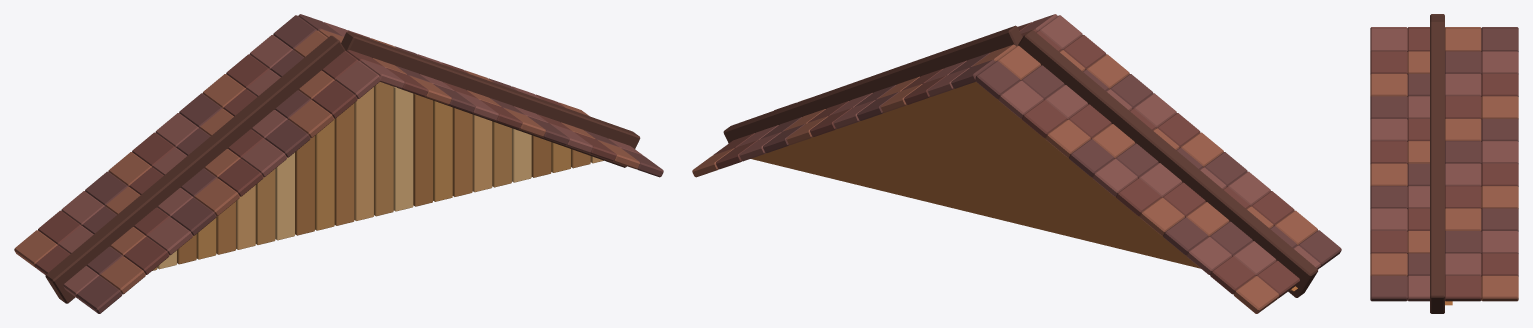
Rendered from gable.glb.
3 renders of one model, left to right at view 1: azimuth 30°, elevation 25°; view 2: azimuth 150°, elevation 25°; view 3: azimuth 270°, elevation 25°, orthographic. The views are drawn at different scales.
Visible parts, largest first — view 1: Testeira, Telha.003, Telha.002, Telha, Telha.001, Ripa do oitão.001, Ripa do oitão.004, Ripa do oitão.003, Ripa do oitão.002, Ripa do oitão.005, Ripa do oitão; view 2: Fechamento do oitão, Testeira, Telha, Telha.003, Telha.002, Telha.001; view 3: Telha.002, Telha.003, Telha.001, Telha, Testeira.
Part boxes in pixels (<box>): Testeira: <box>45,31,640,303</box>; Telha.003: <box>76,14,663,313</box>; Telha.002: <box>14,29,639,294</box>; Telha: <box>58,22,642,298</box>; Telha.001: <box>35,30,616,275</box>; Ripa do oitão.001: <box>216,103,590,254</box>; Ripa do oitão.004: <box>157,87,531,269</box>; Ripa do oitão.003: <box>152,82,511,270</box>; Ripa do oitão.002: <box>236,87,603,249</box>; Ripa do oitão.005: <box>177,93,551,264</box>; Ripa do oitão: <box>196,100,570,259</box>; Fechamento do oitão: <box>751,82,1297,291</box>; Testeira: <box>723,25,1317,297</box>; Telha: <box>737,14,1320,275</box>; Telha.003: <box>760,52,1341,268</box>; Telha.002: <box>692,44,1317,313</box>; Telha.001: <box>713,22,1299,298</box>; Telha.002: <box>1370,27,1518,301</box>; Telha.003: <box>1370,27,1518,301</box>; Telha.001: <box>1370,27,1518,301</box>; Telha: <box>1370,27,1518,301</box>; Testeira: <box>1430,14,1444,313</box>.
Size of the model in its own units: 5.22 by 1.67 by 1.28.
